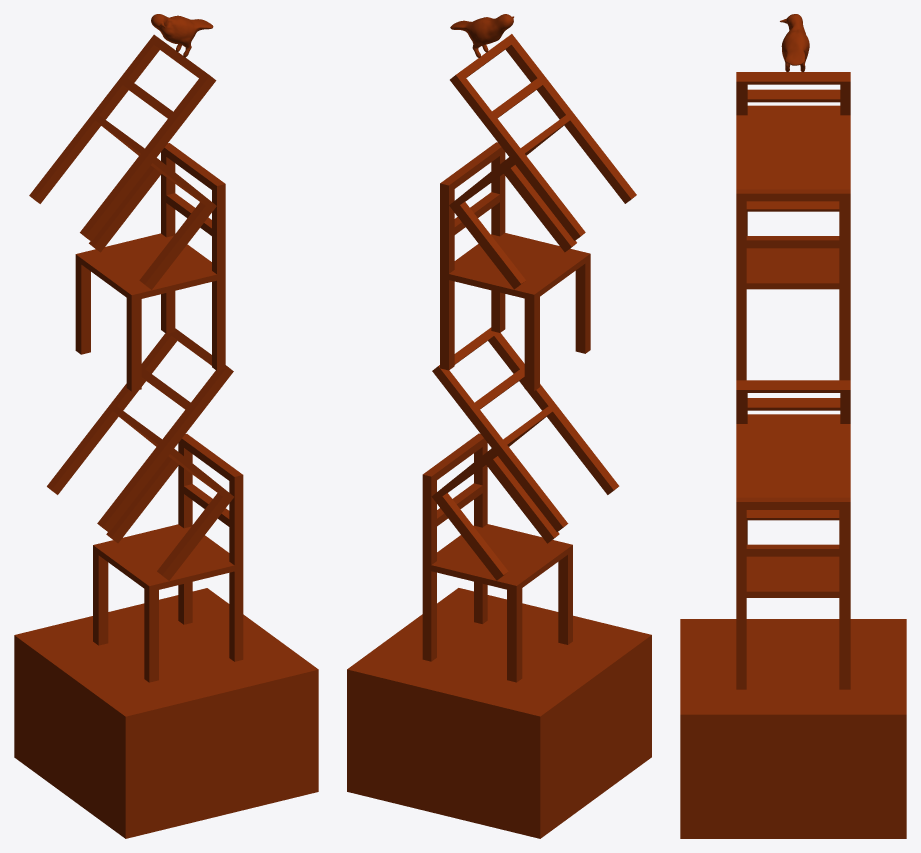
The model's file is Sillas Pajaro.fbx.
3 renders of one model, left to right at view 1: azimuth 30°, elevation 25°; view 2: azimuth 150°, elevation 25°; view 3: azimuth 270°, elevation 25°, orthographic.
Visible parts, largest first — view 1: Sillas; view 2: Sillas; view 3: Sillas.
Part boxes in pixels (bbox=[...]): Sillas: bbox=[14, 14, 318, 838]; Sillas: bbox=[347, 14, 651, 838]; Sillas: bbox=[680, 14, 906, 838].
Bounding box in the file's own units: 423 × 1494 × 397.
